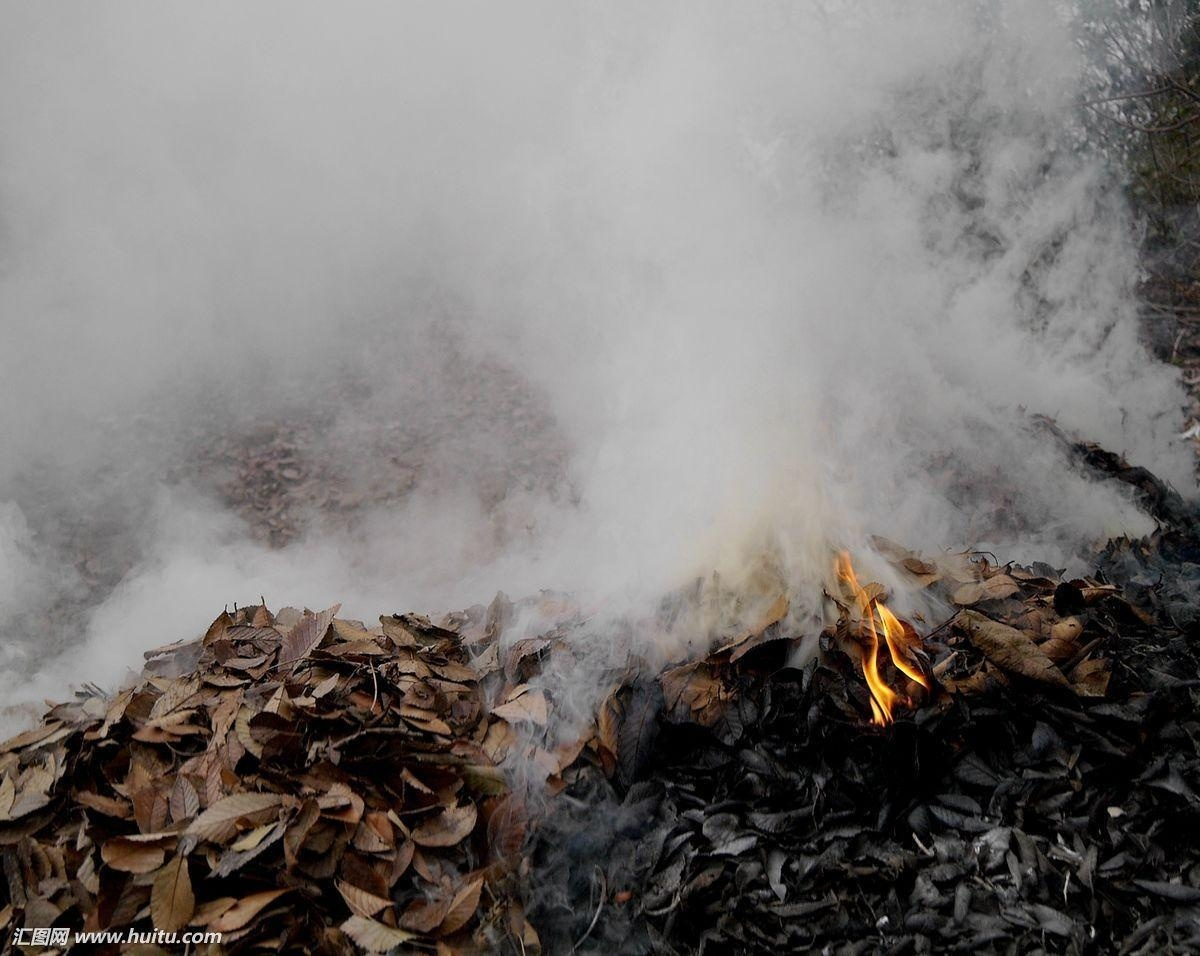fire: (830, 549, 932, 721)
